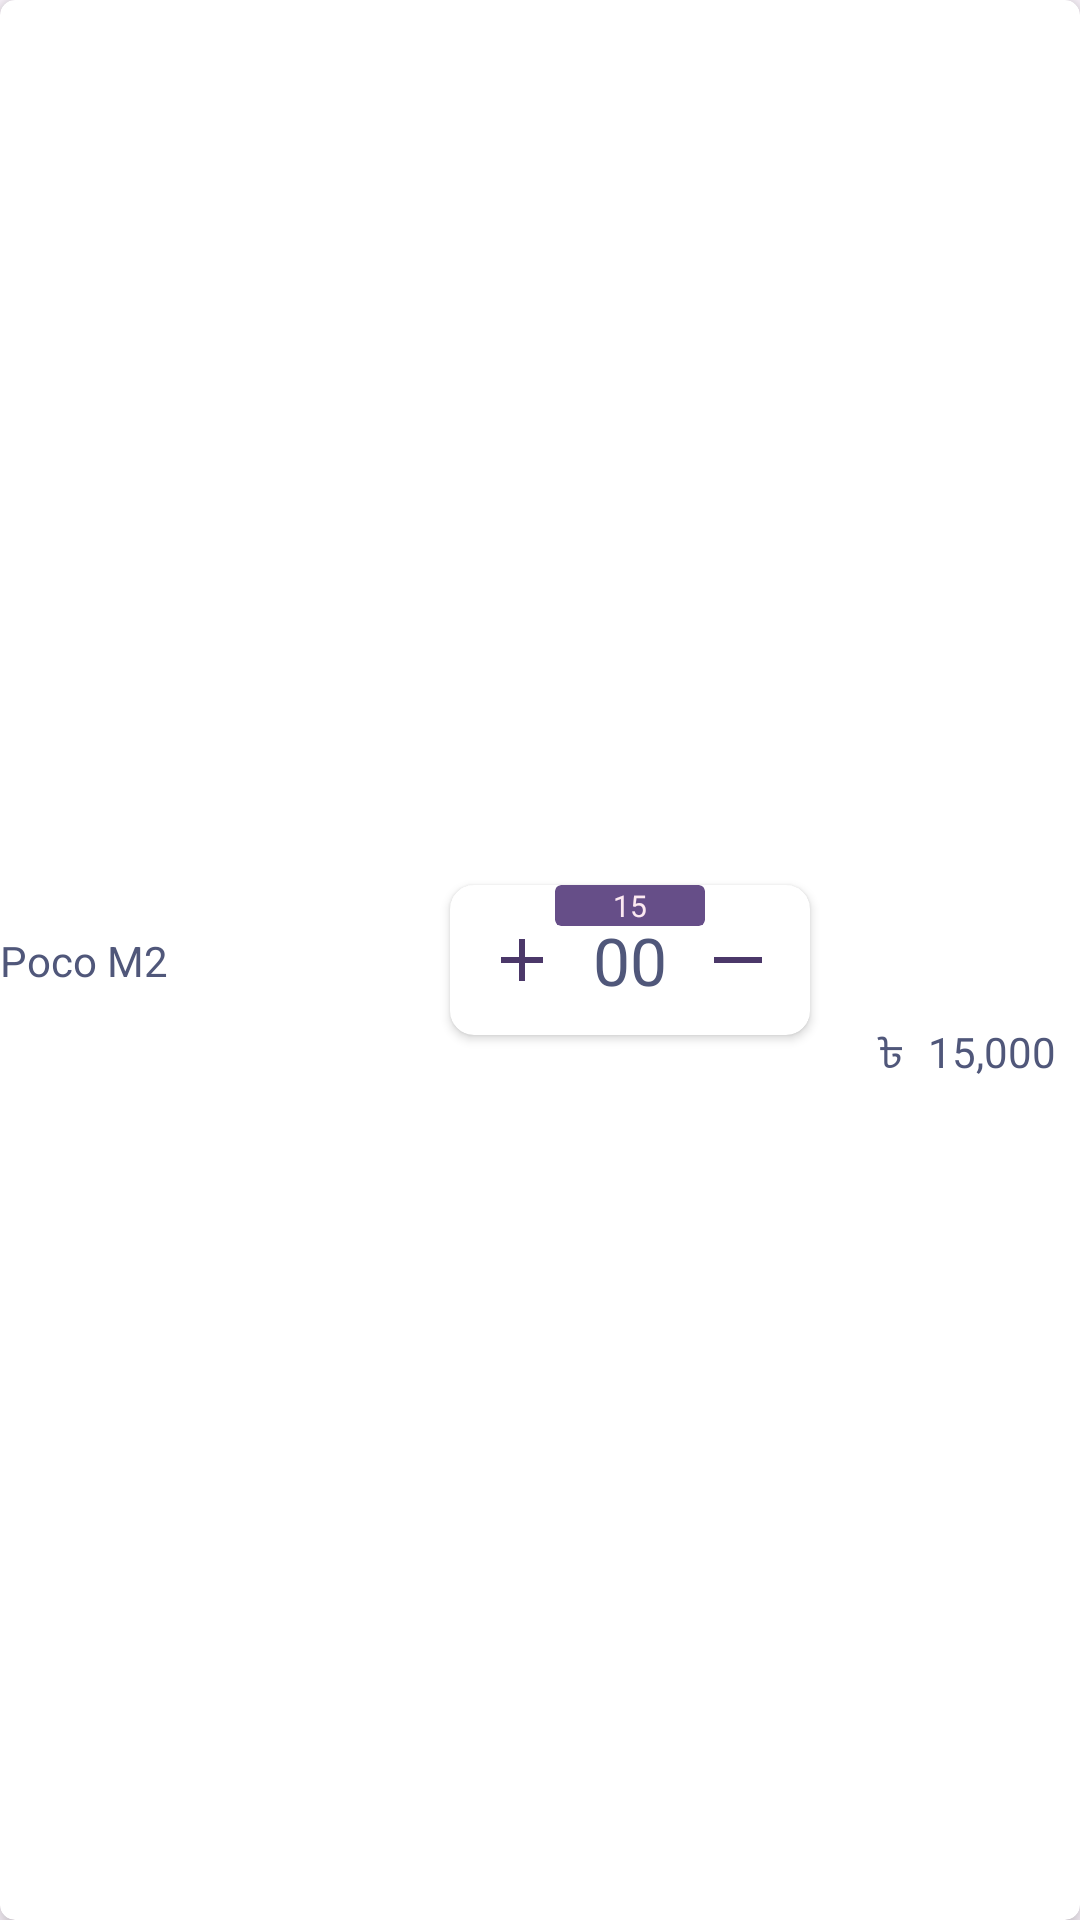

Icon click points for this 1080x1920 phone screenshot, format point (x, y):
horizontal rule: point (738, 960)
